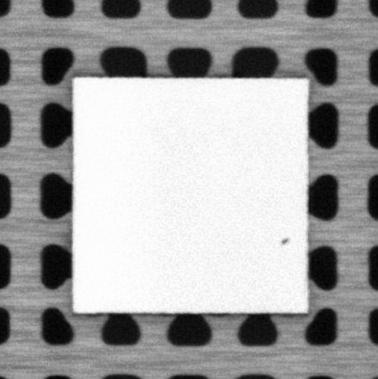DIE_INK: (279, 235, 291, 245)
